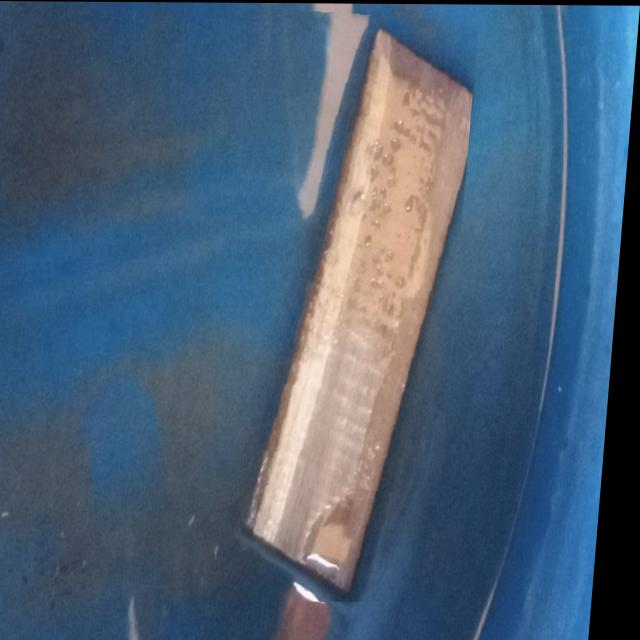litter: (218, 7, 480, 601)
